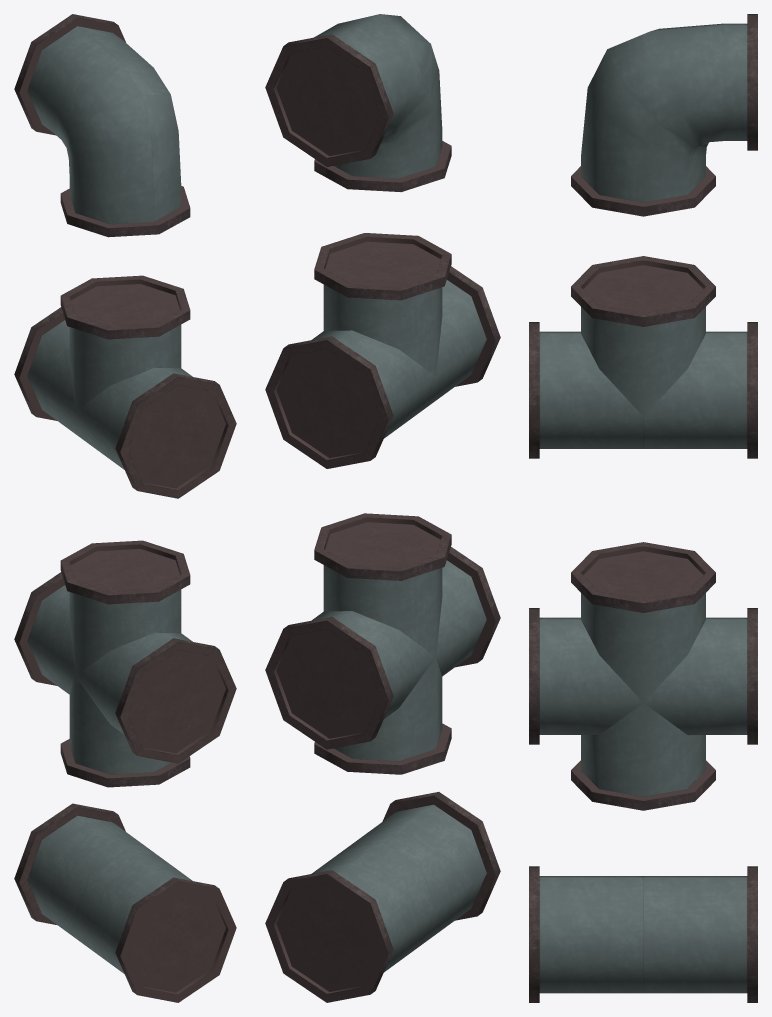
File: Trub.fbx
3 views of the same model, side by side, from view 1: azimuth 30°, elevation 25°; view 2: azimuth 150°, elevation 25°; view 3: azimuth 270°, elevation 25° (orthographic). The views are drawn at different scales.
Parts seen in each view (by area): view 1: Circle.001, Circle.002, Circle.003, Circle; view 2: Circle.001, Circle.002, Circle, Circle.003; view 3: Circle.001, Circle.002, Circle.003, Circle.
Part boxes in pixels (bbox=[...]): Circle.001: bbox=[14, 540, 236, 787]; Circle.002: bbox=[14, 275, 236, 498]; Circle.003: bbox=[14, 14, 190, 237]; Circle: bbox=[14, 803, 236, 1002]; Circle.001: bbox=[265, 513, 500, 774]; Circle.002: bbox=[265, 233, 500, 468]; Circle: bbox=[265, 792, 500, 1002]; Circle.003: bbox=[265, 14, 451, 192]; Circle.001: bbox=[529, 542, 757, 810]; Circle.002: bbox=[529, 256, 757, 458]; Circle.003: bbox=[571, 14, 757, 216]; Circle: bbox=[529, 866, 757, 1002].
Size of the model in its own units: 232 by 1738 by 366.
1 material, 1 textured.
